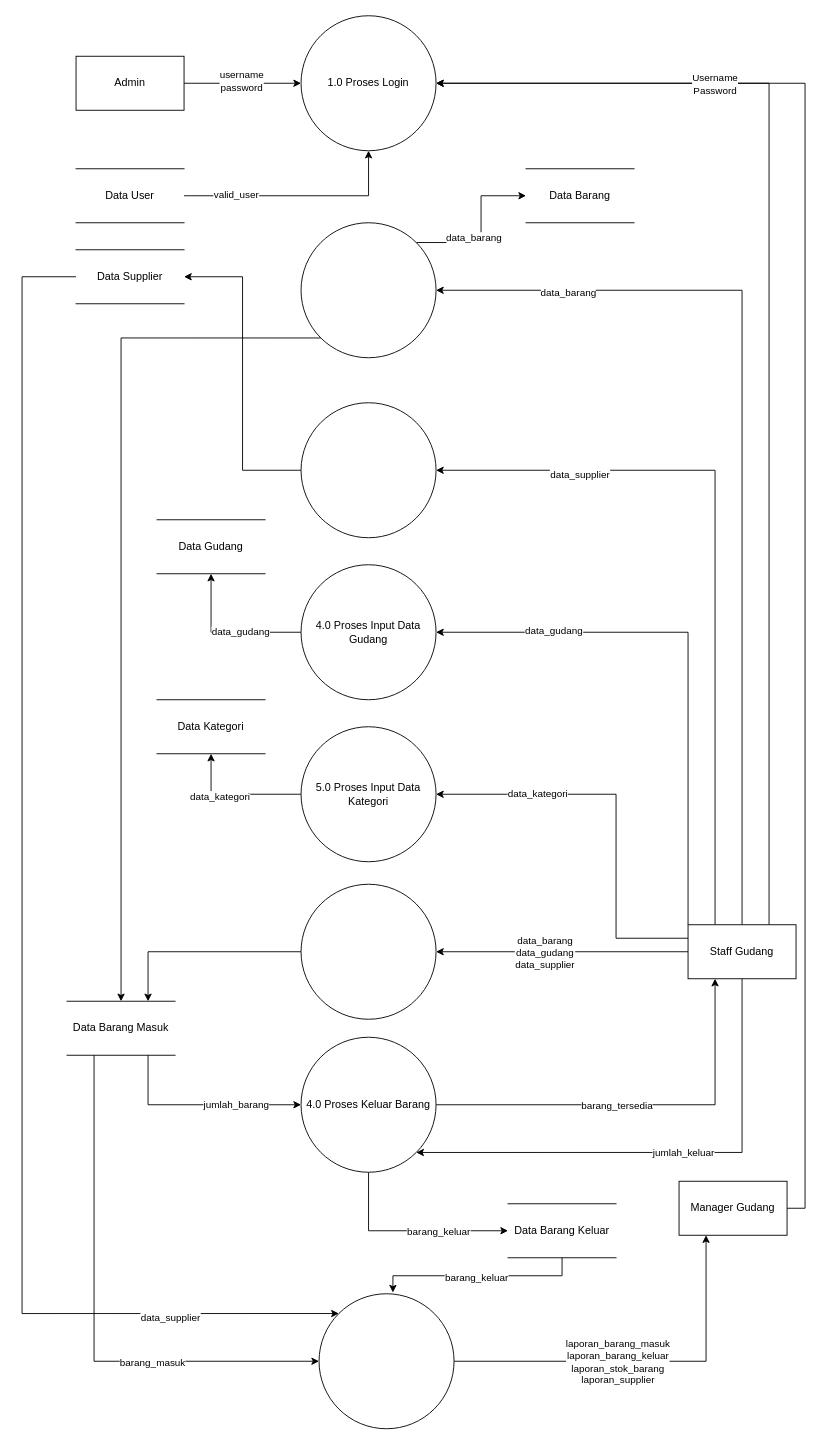
The diagram is 828 pixels wide and 1445 high, and some of its shapes have lost their labels. The shapes that lost their labels are listed below. From the top down, each one's box as (x1, y1, x2, y2) in pixels, then its label:
(300, 222, 436, 358): 2.0 Proses Input Data Barang
(300, 402, 436, 538): 3.0 Proses Input Data Supplier
(300, 883, 436, 1019): 3.0 Proses Masuk Barang
(318, 1293, 454, 1429): 5.0 Proses Report
